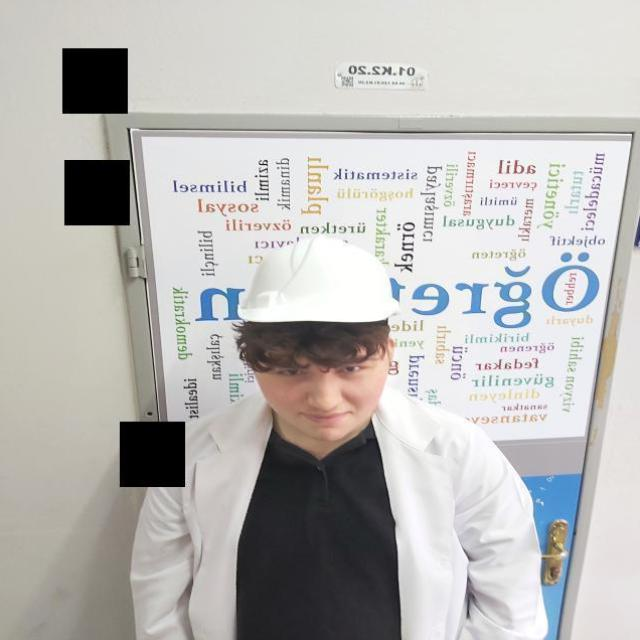helmet: (238, 232, 402, 324)
